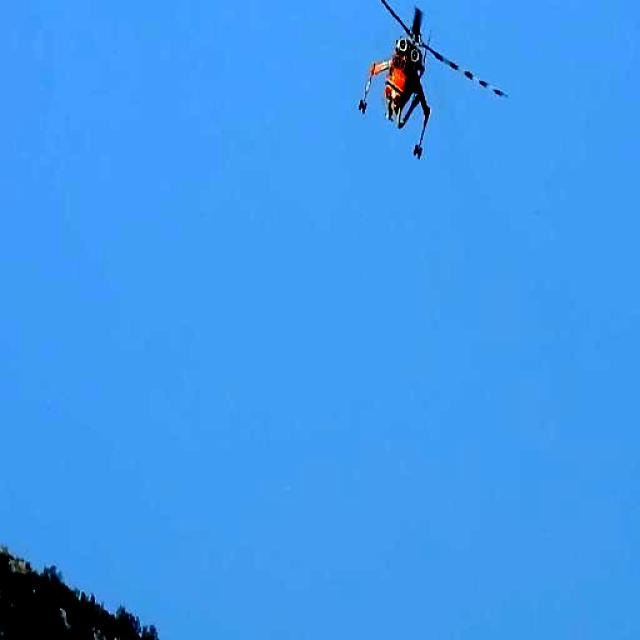drone: (332, 0, 510, 161)
